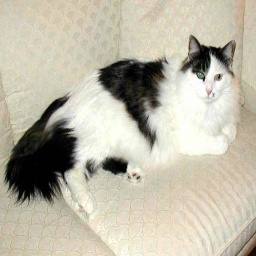cat: (0, 28, 256, 193)
